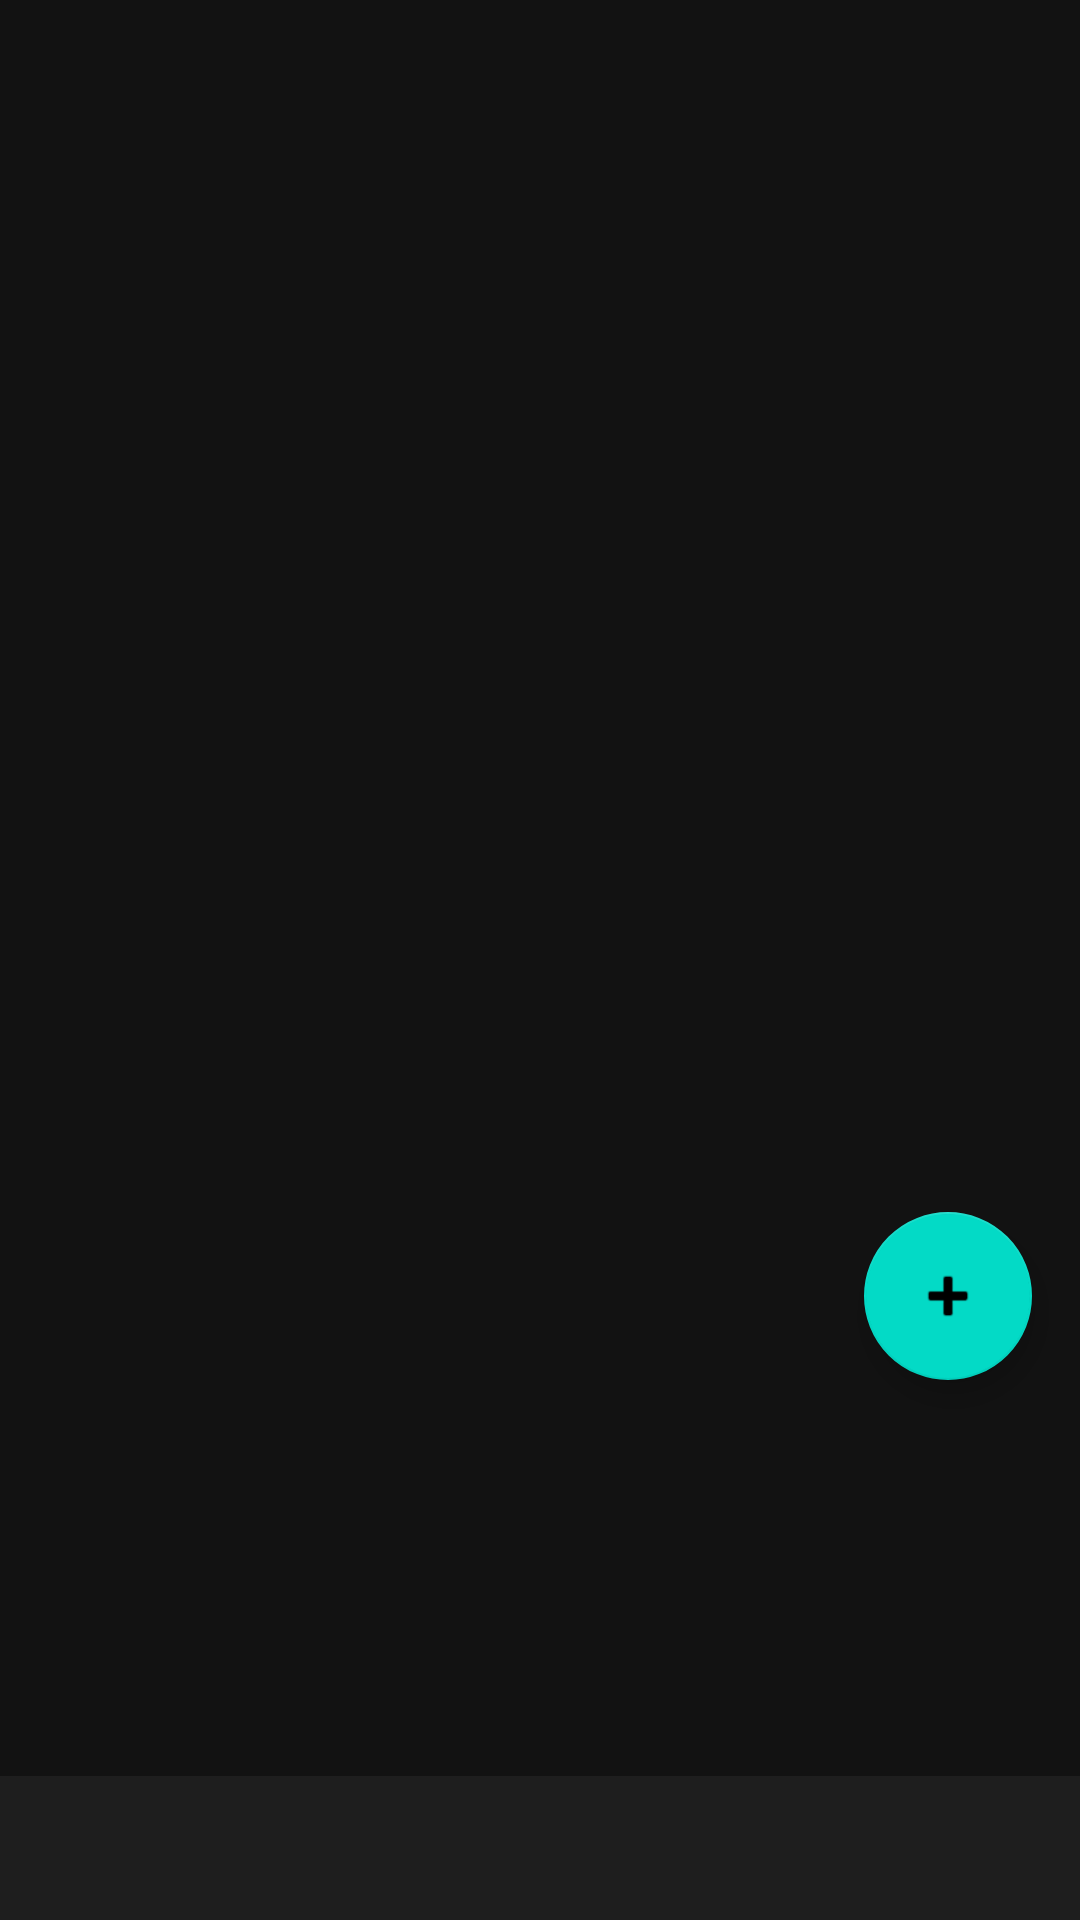

Where to tap for icons on this 1080×1920 app screen, as (x,y):
添加主机: (948,1296)
